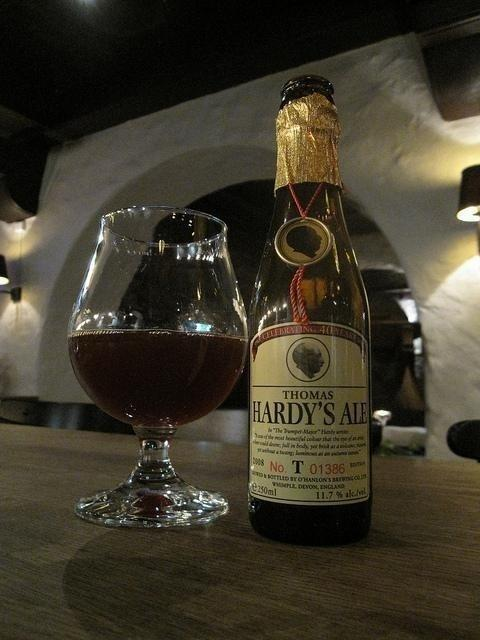bottle-glass: (242, 74, 373, 548)
glass-wine: (67, 204, 249, 532)
